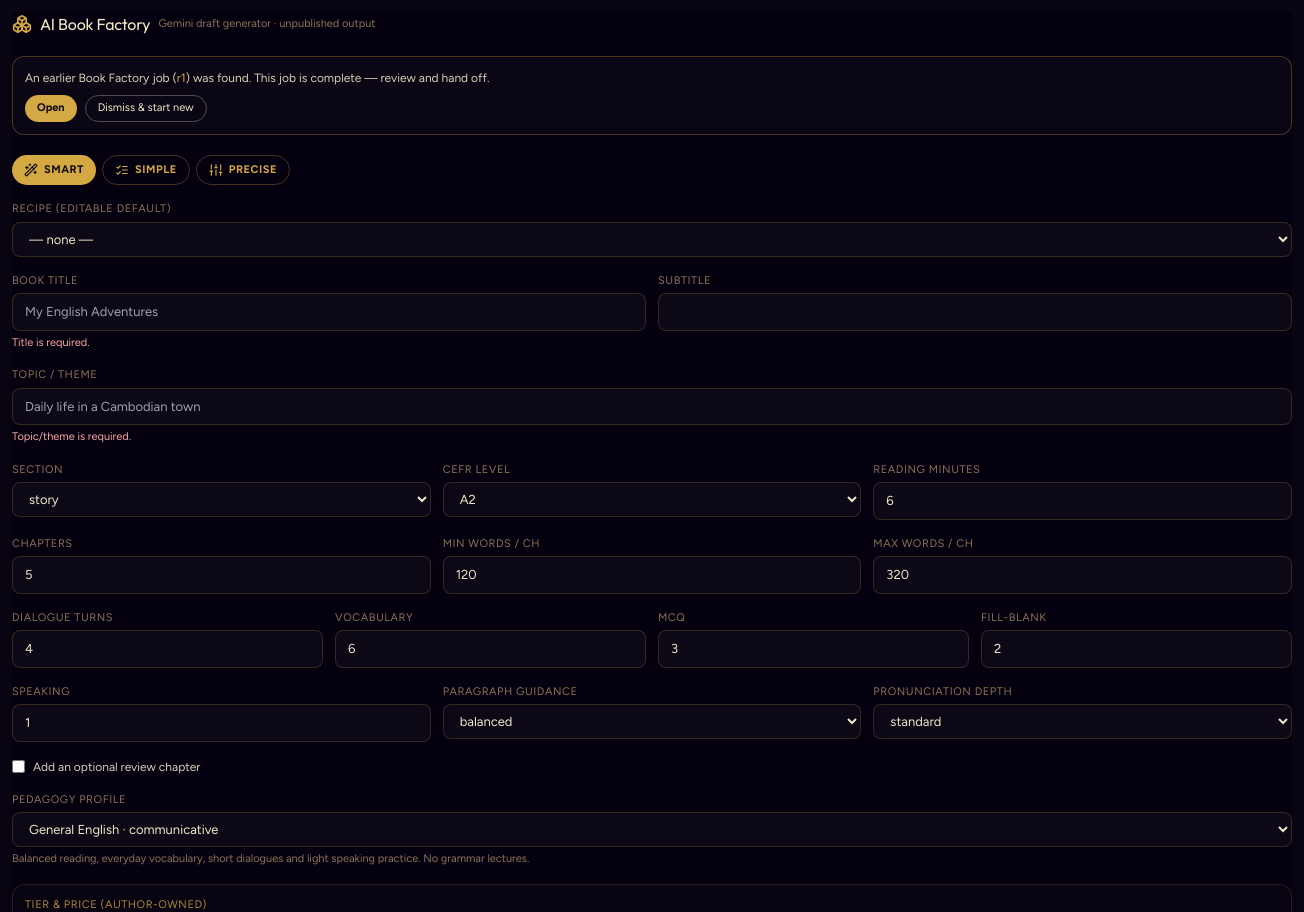
Test: HIGH 7 — recent-jobs fallback › author can dismiss the offer and start new
Check: the element with test id "bf-resume-banner" is shown, box [12,56,1292,134]
Click the button with test id "bf-resume-dismiss": {"x": 146, "y": 108} [85,95,207,122]
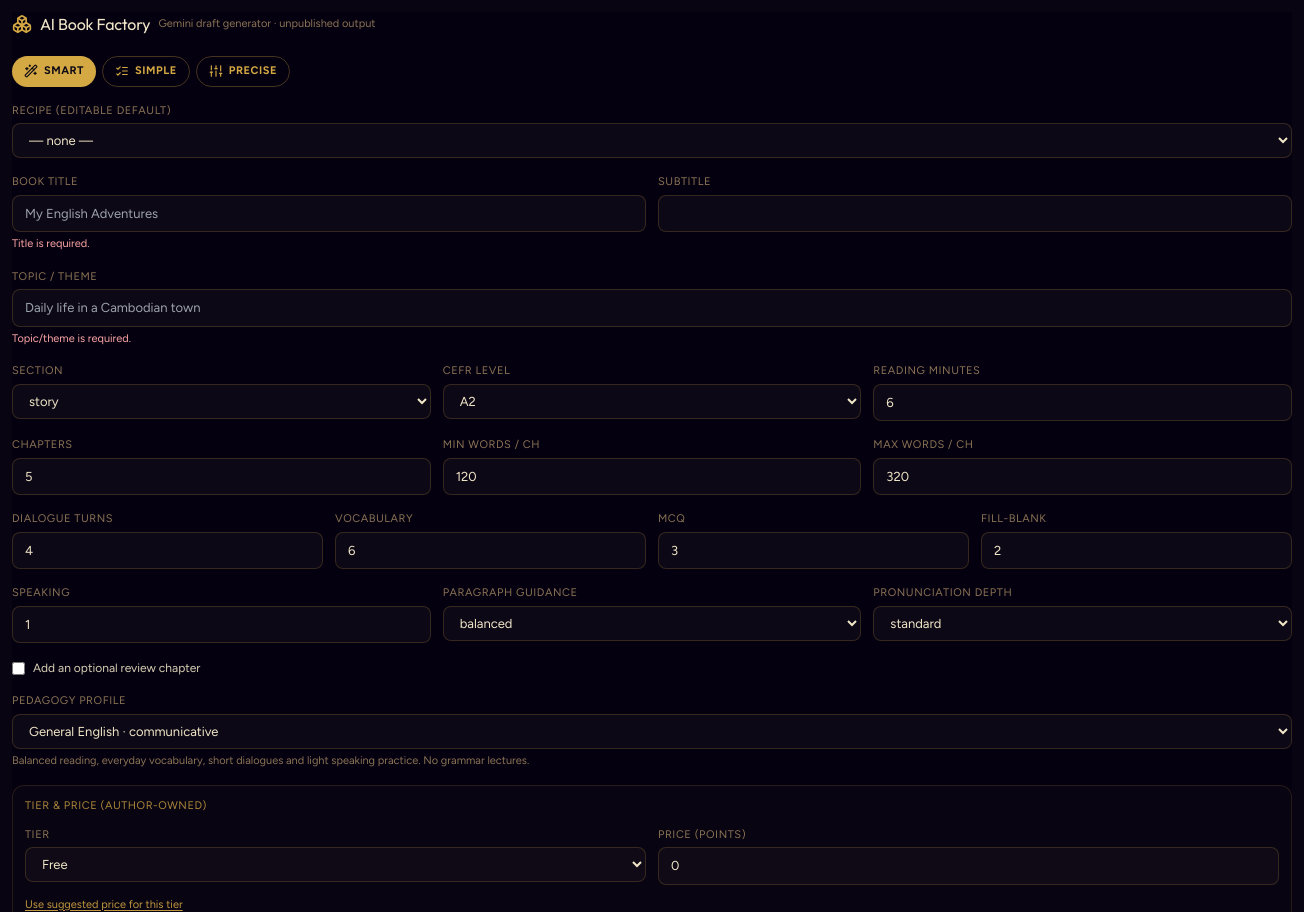
Check: the element with test id "bf-resume-banner" is gone
